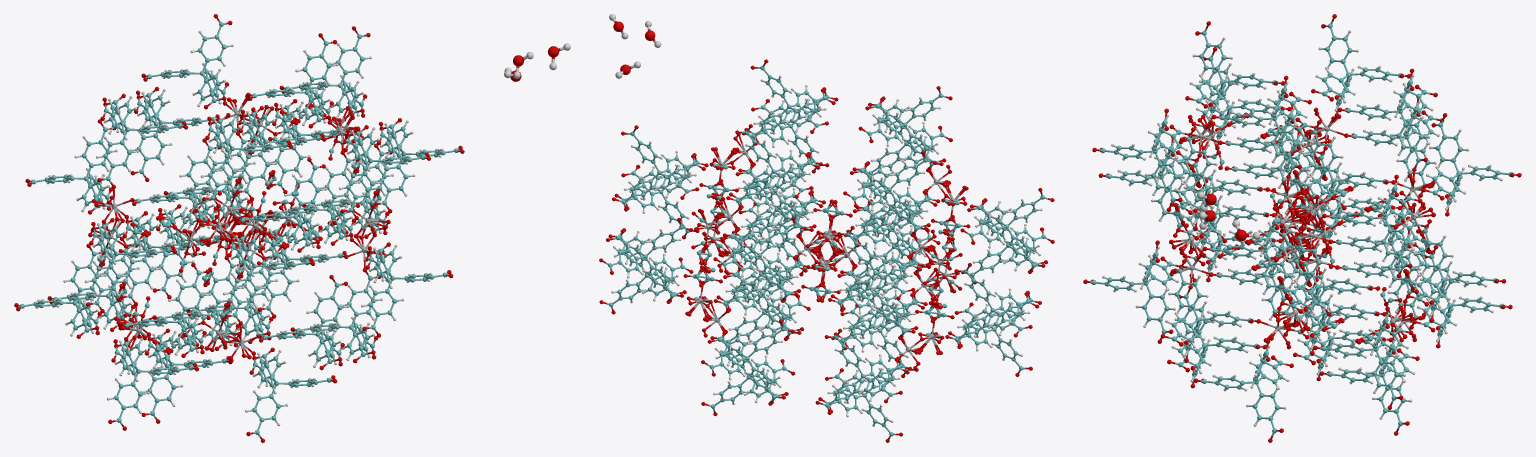
File: mof841_w.glb
3 renders of one model, left to right at view 1: azimuth 30°, elevation 25°; view 2: azimuth 150°, elevation 25°; view 3: azimuth 270°, elevation 25°, orthographic. The views are drawn at different scales.
Visible parts, largest first — view 1: mof841_vmd; view 2: mof841_vmd; view 3: mof841_vmd.
Boxes of the visible parts, left/top/right/bottom form: mof841_vmd: left=14, top=14, right=464, bottom=442; mof841_vmd: left=599, top=59, right=1054, bottom=442; mof841_vmd: left=1083, top=14, right=1521, bottom=442.
Size of the model in its own units: 2.23 by 1.55 by 1.62.
